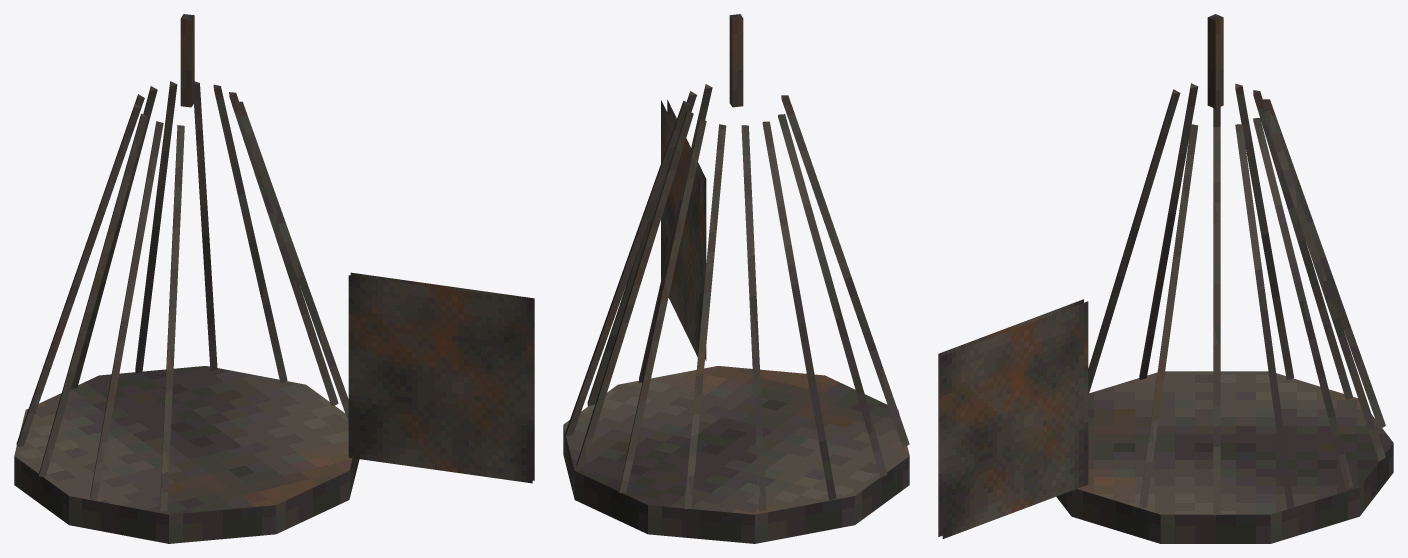
Rendered from jaula.obj.
3 renders of one model, left to right at view 1: azimuth 30°, elevation 25°; view 2: azimuth 150°, elevation 25°; view 3: azimuth 270°, elevation 25°, orthographic.
Visible parts, largest first — view 1: jaula; view 2: jaula; view 3: jaula.
Part boxes in pixels (x1,y1,x2,y2): jaula: (14, 14, 534, 543); jaula: (563, 14, 909, 543); jaula: (938, 14, 1393, 543).
Bounding box in the file's own units: 0.5179 × 0.62 × 0.5627.
Materials: 1 (1 with a texture image).
